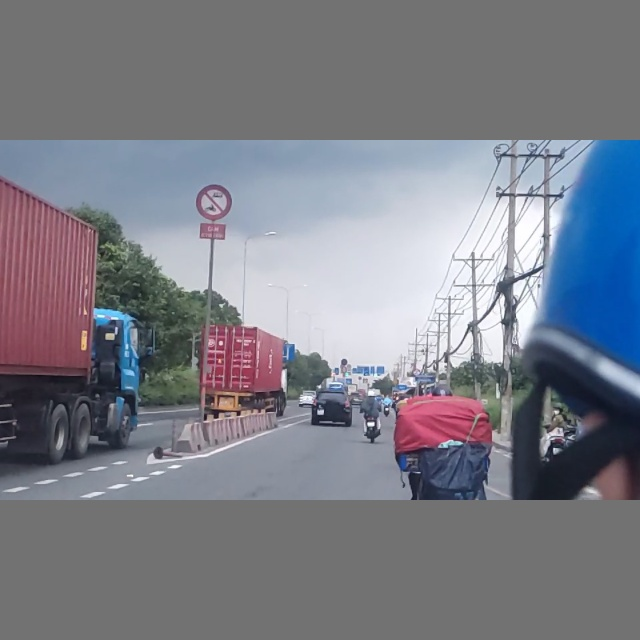P.111: (196, 184, 233, 220)
